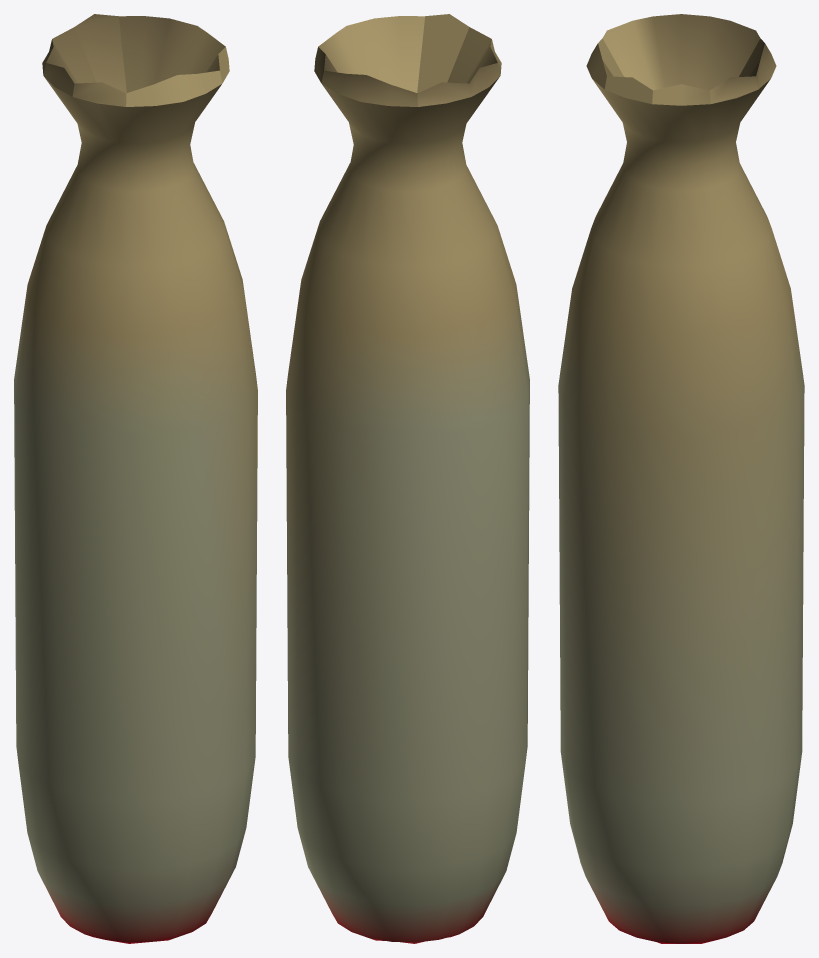
Rendered from Vase.fbx.
3 views of the same model, side by side, from view 1: azimuth 30°, elevation 25°; view 2: azimuth 150°, elevation 25°; view 3: azimuth 270°, elevation 25° (orthographic).
Visible parts, largest first — view 1: Cylinder; view 2: Cylinder; view 3: Cylinder.
Part boxes in pixels (x1,y1,x2,y2): Cylinder: (14, 14, 257, 943); Cylinder: (286, 14, 529, 943); Cylinder: (558, 14, 804, 943).
Bounding box in the file's own units: 293 × 1154 × 293.
